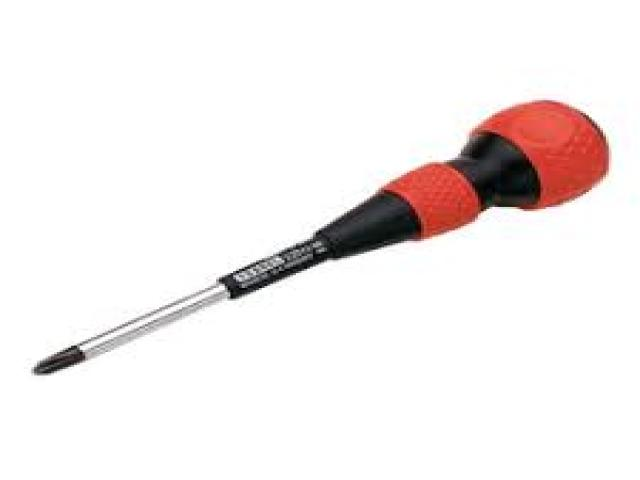Screwdriver: (34, 103, 609, 374)
